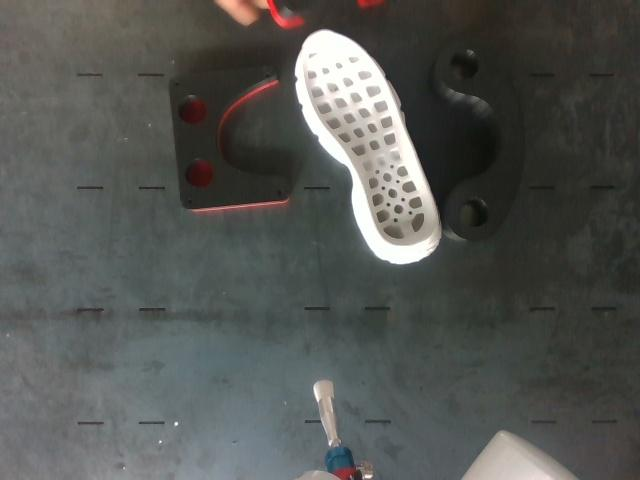shoes: (301, 30, 438, 248)
